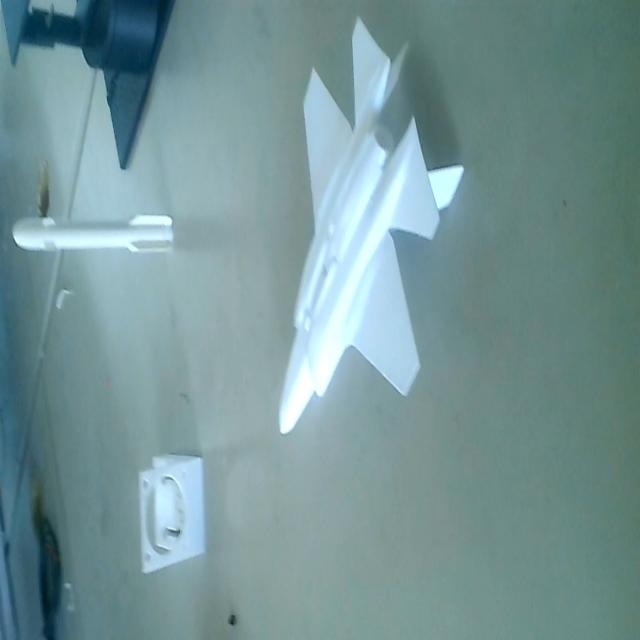Jet: (274, 10, 468, 458)
Rocket: (10, 197, 176, 268)
